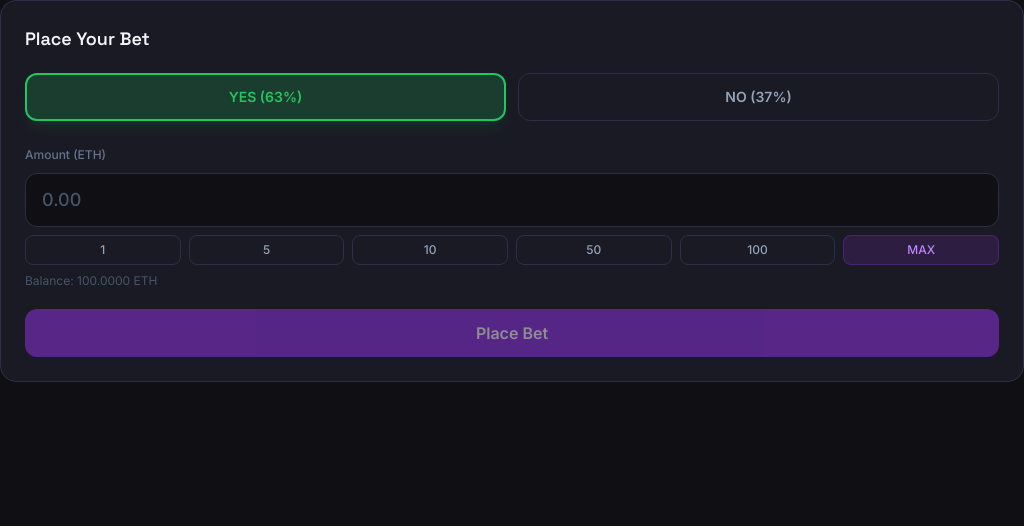
Test: BettingPanel › shows payout calculator when amount entered
This screenshot has width=1024, height=526.
Type "10" into the number field with placeholder "0.00" at (512, 200), box 25,173 -> 999,227
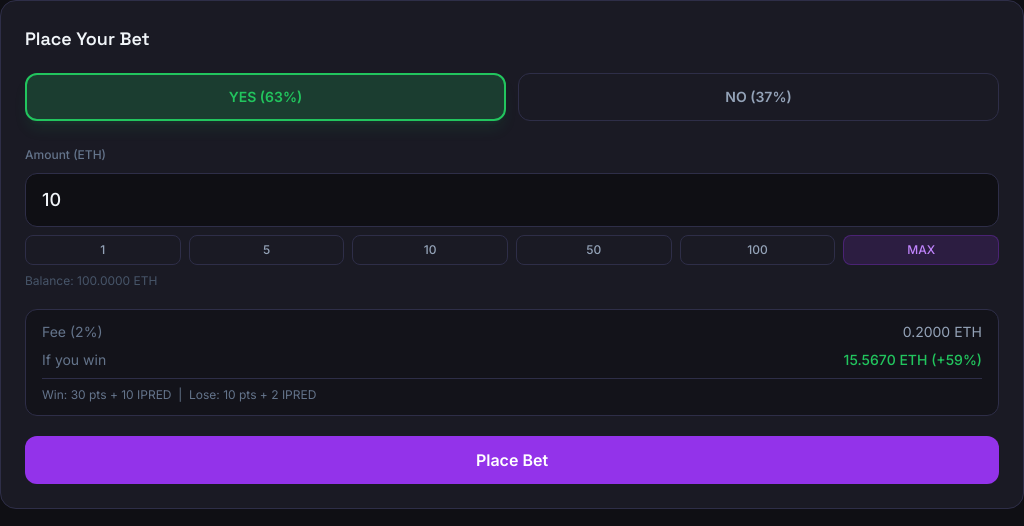
Expected: the text "If you win" is shown, 42,350 -> 106,370
Expected: the text "Fee (2%)" is shown, 42,322 -> 102,342
